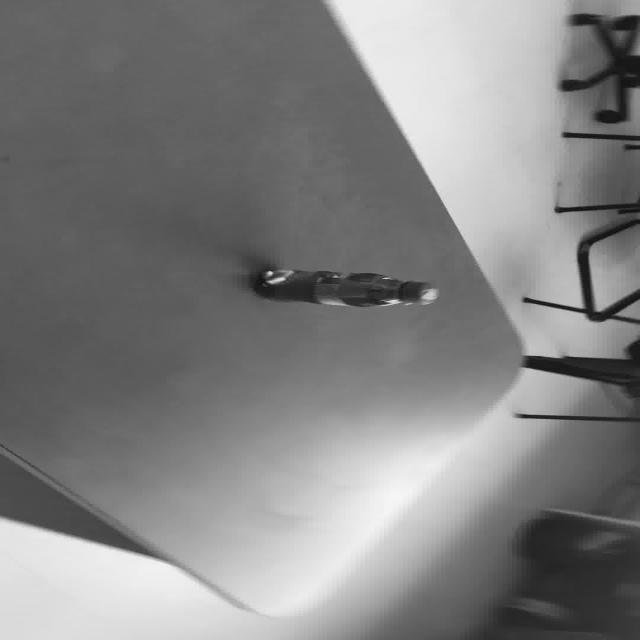guarana: (253, 267, 439, 308)
